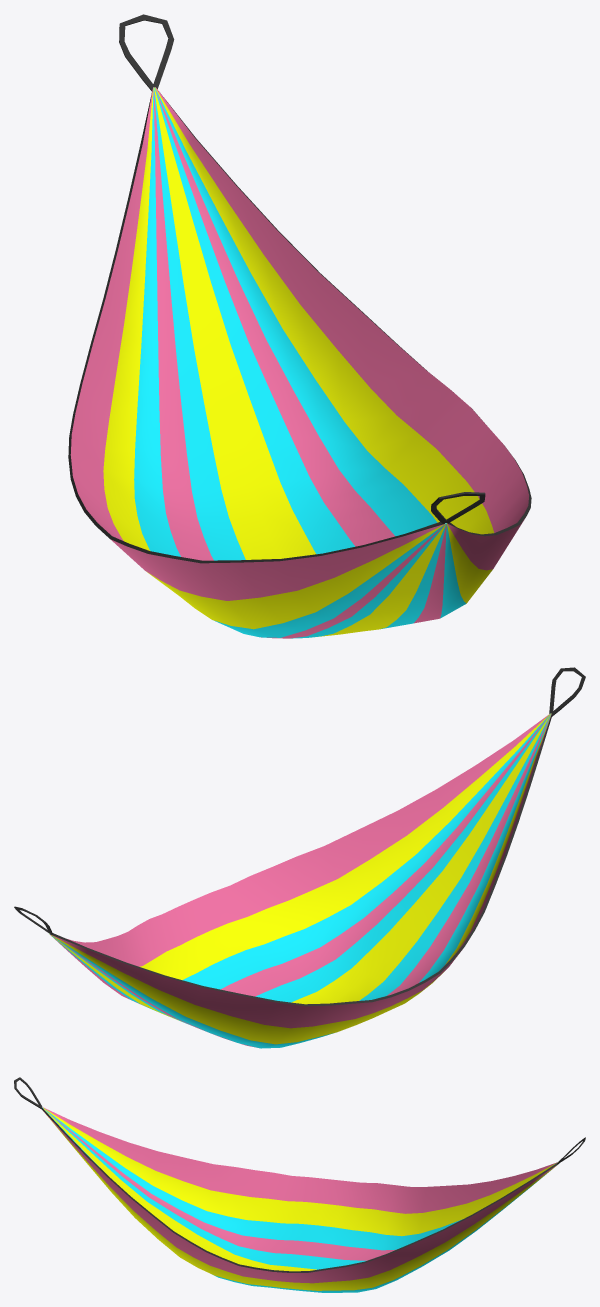
3 renders of one model, top to bottom at view 1: azimuth 30°, elevation 25°; view 2: azimuth 150°, elevation 25°; view 3: azimuth 270°, elevation 25°, orthographic. The views are drawn at different scales.
Visible parts, largest first — view 1: Plane004, Box003; view 2: Plane004, Box004; view 3: Plane004.
Boxes of the visible parts, <box> form: Plane004: <box>68,87,531,638</box>; Box003: <box>119,14,174,91</box>; Plane004: <box>49,713,551,1048</box>; Box004: <box>549,667,585,716</box>; Plane004: <box>41,1107,559,1292</box>.
Bounding box in the file's own units: 218279 × 178072 × 542716.
